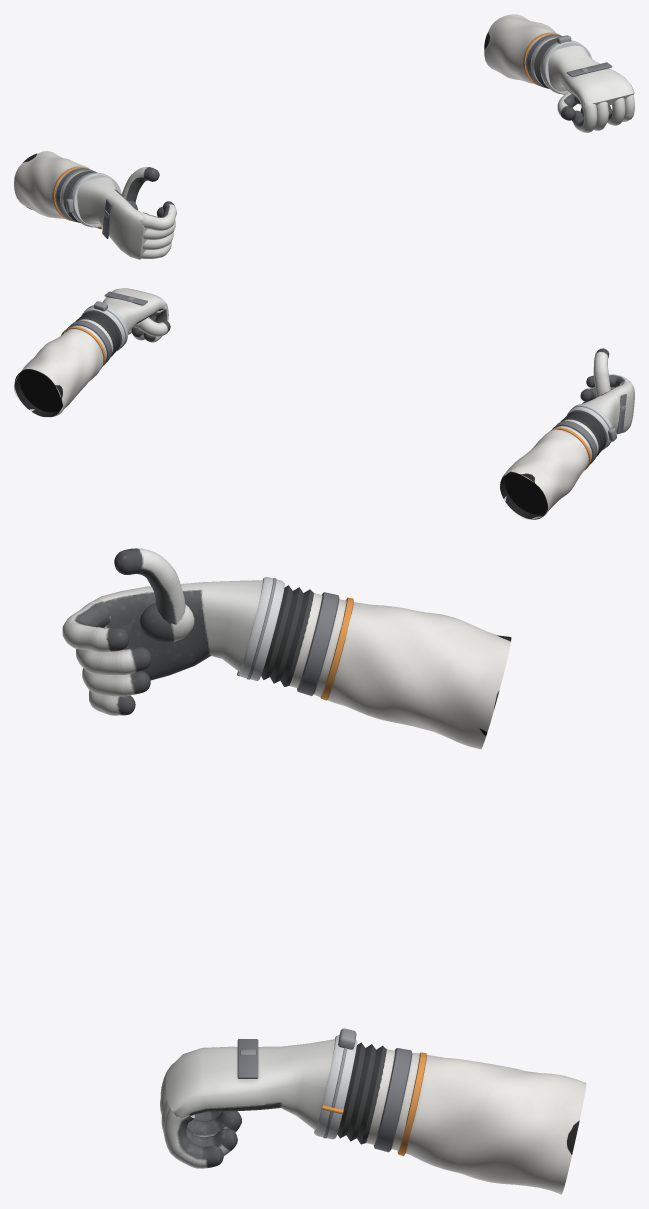
The model's file is pilot_gloves.glb.
3 views of the same model, one above another, from view 1: azimuth 30°, elevation 25°; view 2: azimuth 150°, elevation 25°; view 3: azimuth 270°, elevation 25° (orthographic). The views are drawn at different scales.
Parts seen in each view (by area): view 1: glove_R, glove_L; view 2: glove_R, glove_L; view 3: glove_R, glove_L.
Boxes of the visible parts, box(x1,y1,x2,y2) form: glove_R: box(14, 151, 176, 259); glove_L: box(484, 14, 634, 132); glove_R: box(500, 348, 634, 519); glove_L: box(14, 288, 170, 417); glove_R: box(62, 548, 511, 749); glove_L: box(160, 1028, 586, 1194).
Bounding box in the file's own units: 1.12 × 0.2092 × 0.4837.
1 material, 1 textured.
